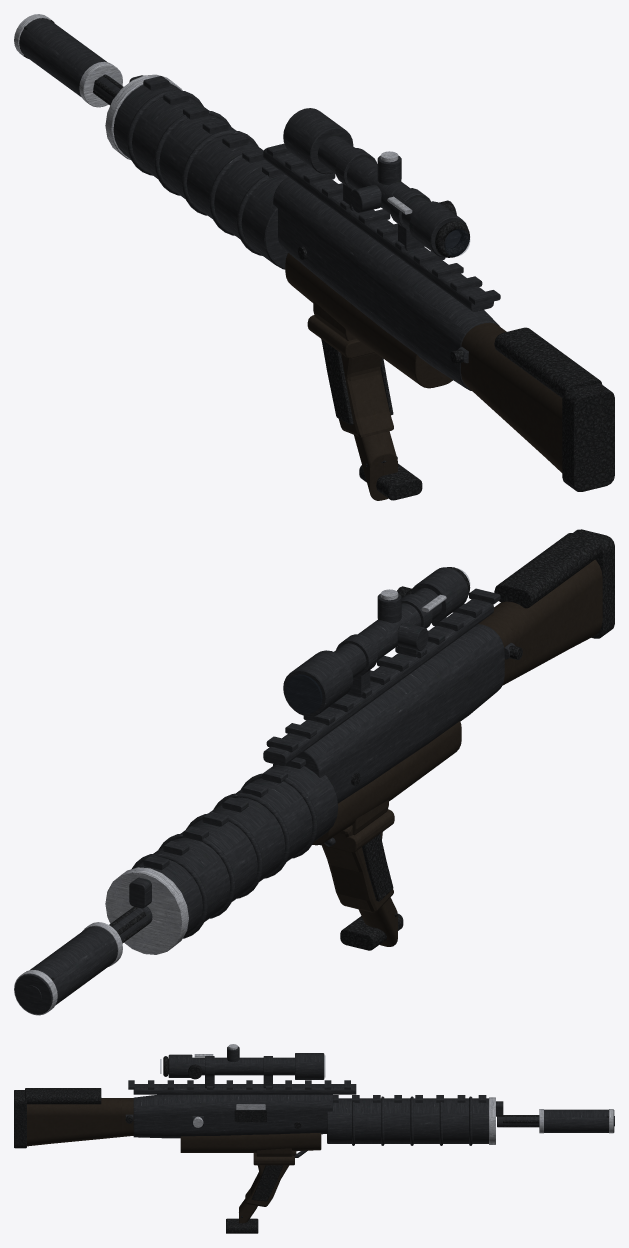
File: vanguard.glb
3 views of the same model, one above another, from view 1: azimuth 30°, elevation 25°; view 2: azimuth 150°, elevation 25°; view 3: azimuth 270°, elevation 25° (orthographic). The views are drawn at different scales.
Visible parts, largest first — view 1: body, optic, mag; view 2: body, optic, mag; view 3: body, optic, mag.
Boxes of the visible parts, x1,y1,x2,y2 form: body: (14,14,614,491); optic: (283,108,469,257); mag: (354,431,422,500); body: (14,529,614,1015); optic: (283,567,470,716); mag: (340,897,403,950); body: (14,1080,614,1206); optic: (160,1044,325,1088); mag: (226,1199,258,1233).
Bounding box in the file's own units: 0.0846 × 0.3511 × 1.02.
5 materials, 5 textured.
